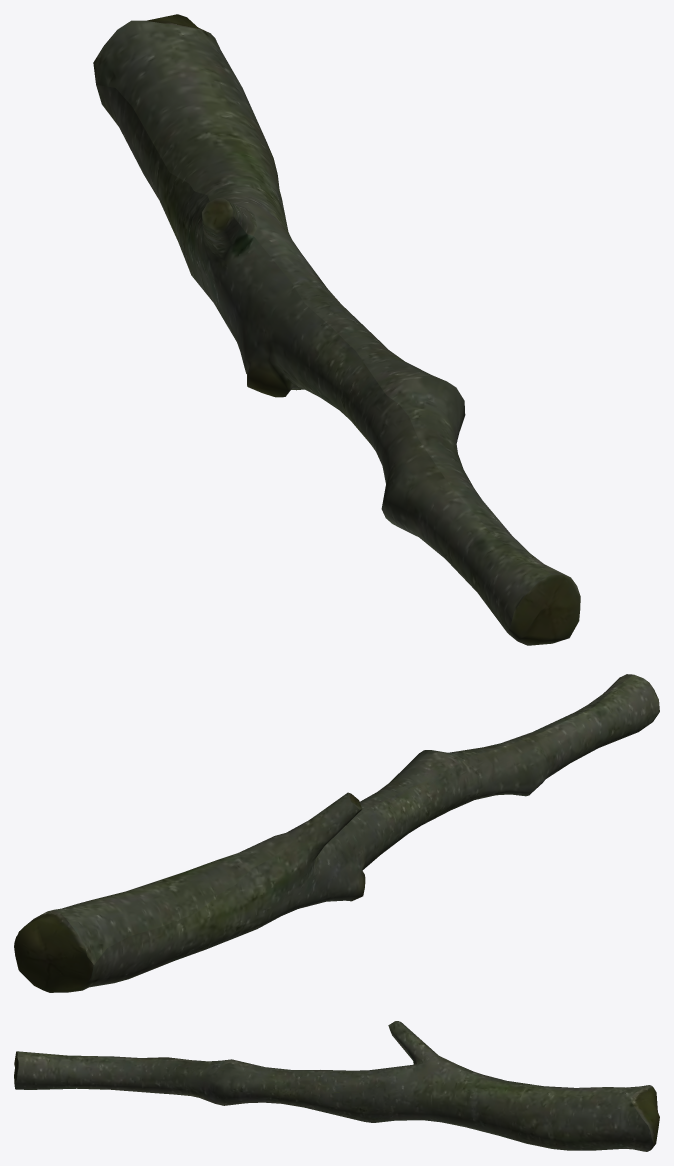
3 views of the same model, one above another, from view 1: azimuth 30°, elevation 25°; view 2: azimuth 150°, elevation 25°; view 3: azimuth 270°, elevation 25° (orthographic). The views are drawn at different scales.
Visible parts, largest first — view 1: SM_Branches_02_LOD0; view 2: SM_Branches_02_LOD0; view 3: SM_Branches_02_LOD0.
Part boxes in pixels (<box>): SM_Branches_02_LOD0: <box>93,14,580,645</box>; SM_Branches_02_LOD0: <box>14,674,659,992</box>; SM_Branches_02_LOD0: <box>14,1021,659,1151</box>.
Size of the model in its own units: 0.3609 by 0.191 by 1.21.
Materials: 1 (1 with a texture image).
